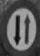Two way: (5, 3, 35, 51)
